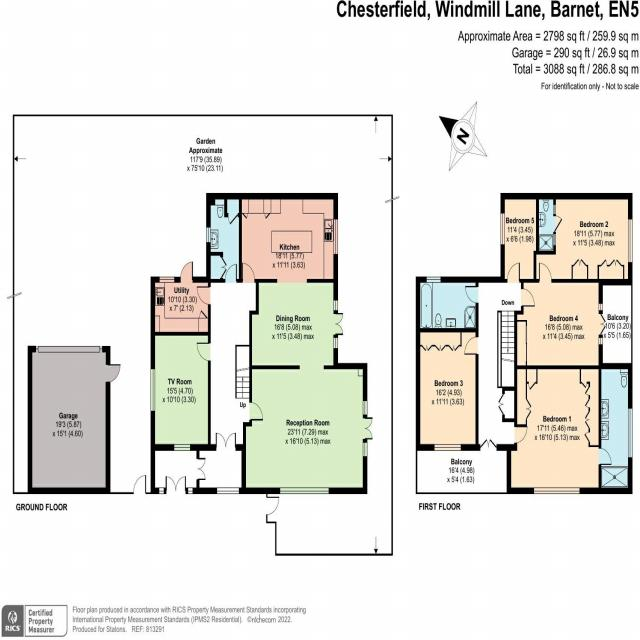DOOR: (538, 261, 552, 283), (180, 261, 193, 283), (464, 336, 479, 355), (196, 286, 211, 305), (196, 342, 211, 361), (507, 262, 520, 283), (242, 262, 255, 283), (514, 425, 528, 444), (521, 288, 535, 307), (465, 285, 479, 304), (249, 402, 263, 421), (225, 263, 237, 283)
DOUBLE DOOR: (362, 415, 374, 441), (334, 312, 344, 338)
ROOM: (239, 192, 373, 495), (506, 365, 612, 494), (514, 262, 606, 369), (415, 328, 479, 451), (151, 332, 211, 451), (500, 193, 539, 283)
WINDOW: (280, 487, 329, 495), (534, 487, 580, 495), (150, 367, 156, 412), (628, 408, 633, 459), (628, 218, 633, 263), (434, 444, 461, 451), (333, 219, 338, 255), (500, 213, 505, 245), (217, 487, 239, 494), (159, 276, 175, 283), (174, 444, 190, 451), (426, 276, 441, 283), (206, 227, 211, 243), (363, 400, 367, 415), (363, 442, 367, 457), (333, 337, 338, 349), (333, 300, 338, 311), (598, 337, 603, 345), (599, 303, 603, 311)
